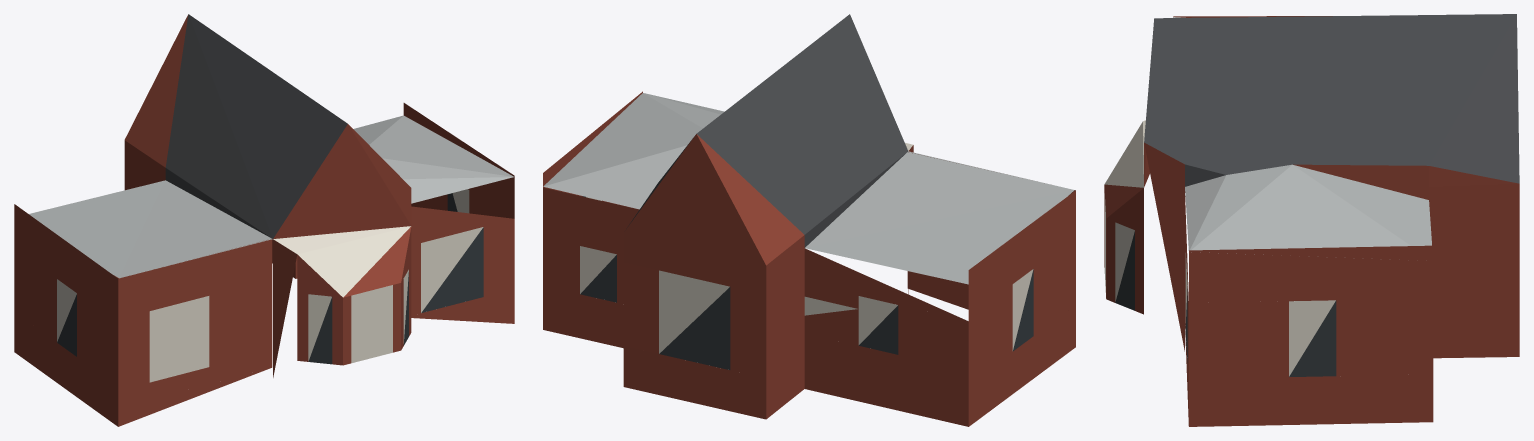
The model's file is westergas-bazenwoning-west.lod2.glb.
The picture shows the model from 3 angles, left to right: view 1: azimuth 30°, elevation 25°; view 2: azimuth 150°, elevation 25°; view 3: azimuth 270°, elevation 25°; orthographic projection. The views are drawn at different scales.
Parts seen in each view (by area): view 1: lod2; view 2: lod2; view 3: lod2.
Part boxes in pixels (left/top/right/bottom): lod2: left=14, top=14, right=514, bottom=426; lod2: left=543, top=14, right=1075, bottom=426; lod2: left=1104, top=14, right=1519, bottom=426.
Bounding box in the file's own units: 15.25 × 9.2 × 11.4.
